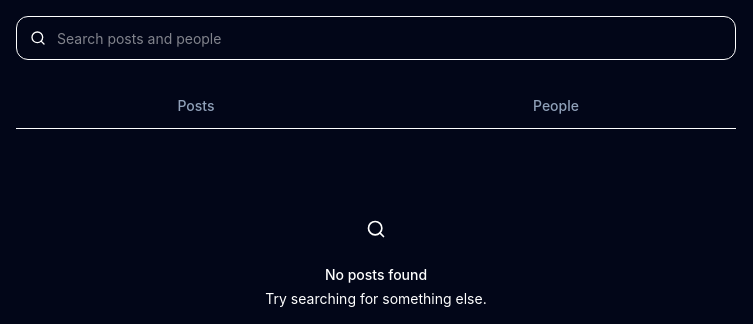
Scenario: SearchPage › shows search errors and empty people results
Later steps or results of the test are not shown.
Click the button "People".
click(556, 106)  # box [376,84,736,128]
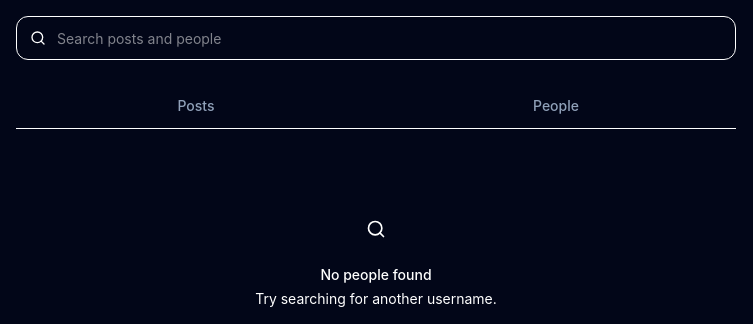
Expected: the text "No people found" is shown, [320,265,432,285]
